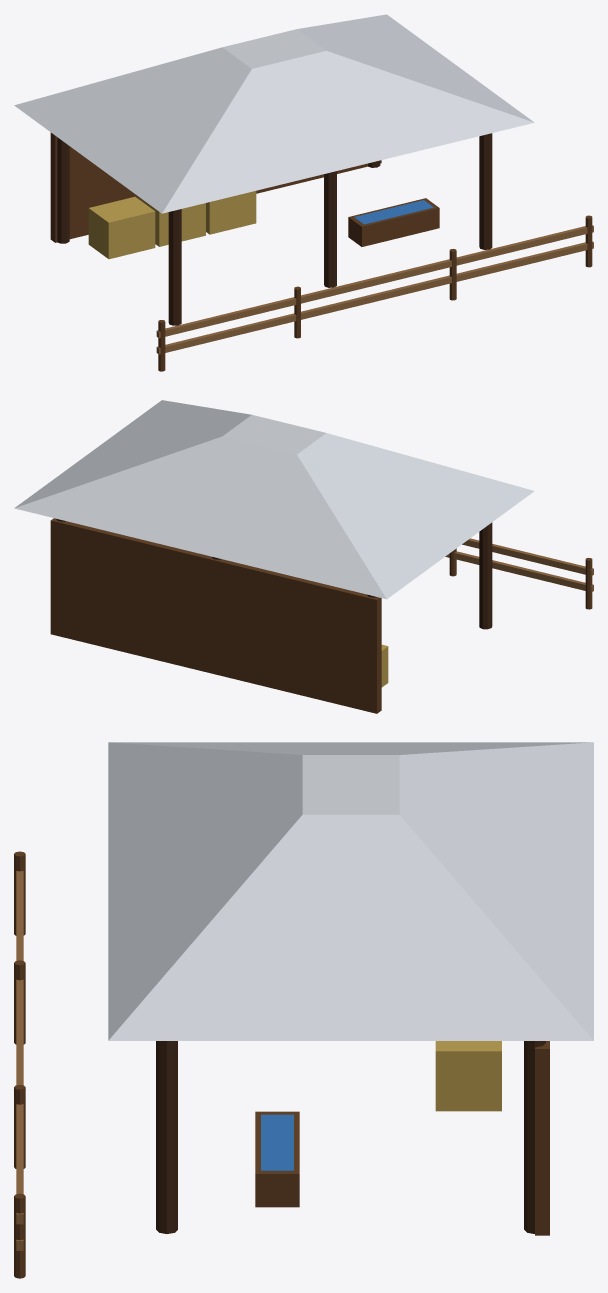
Rendered from SM_GZ_stable_frost.fbx.
3 views of the same model, one above another, from view 1: azimuth 30°, elevation 25°; view 2: azimuth 150°, elevation 25°; view 3: azimuth 270°, elevation 25° (orthographic). The views are drawn at different scales.
Parts seen in each view (by area): view 1: SM_GZ_stable_frost; view 2: SM_GZ_stable_frost; view 3: SM_GZ_stable_frost.
Boxes of the visible parts, x1,y1,x2,y2 form: SM_GZ_stable_frost: [14, 14, 593, 371]; SM_GZ_stable_frost: [14, 400, 593, 713]; SM_GZ_stable_frost: [14, 742, 593, 1278].
Size of the model in its own units: 1120 by 480 by 788.
